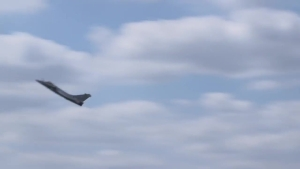flight: (34, 78, 92, 107)
